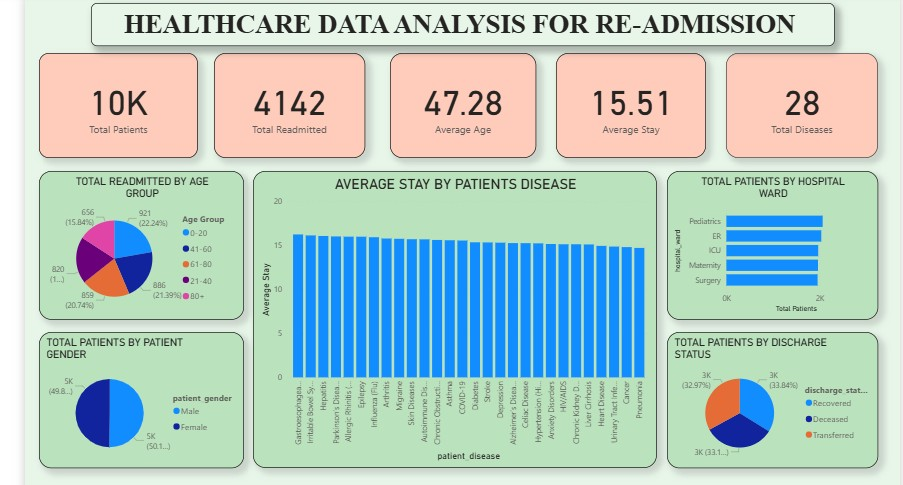

This screenshot's page, from the dashboard's own definition file:
{"tool":"powerbi","page":{"name":"Page 1","canvas":[1400,800],"ordinal":0},"visuals":[{"type":"card","fields":{"Values":["Healthcare Data Analysis for readmission csv.Total Patients"]},"box":[22.4,91.2,254.4,168],"z":0},{"type":"card","fields":{"Values":["Healthcare Data Analysis for readmission csv.Total Diseases"]},"box":[1121.6,91.2,243.2,168],"z":1000},{"type":"card","fields":{"Values":["Healthcare Data Analysis for readmission csv.Total Readmitted"]},"box":[302.4,91.2,241.6,168],"z":2000},{"type":"card","fields":{"Values":["Healthcare Data Analysis for readmission csv.Average Age"]},"box":[584,91.2,233.6,168],"z":3000},{"type":"card","fields":{"Values":["Healthcare Data Analysis for readmission csv.Average Stay"]},"box":[849.6,91.2,240,168],"z":4000},{"type":"pieChart","title":"TOTAL PATIENTS BY PATIENT GENDER","fields":{"Category":["Healthcare Data Analysis for readmission csv.patient_gender"],"Y":["Healthcare Data Analysis for readmission csv.Total Patients"]},"box":[22.4,537.6,328,217.6],"z":5000},{"type":"pieChart","title":"TOTAL READMITTED BY AGE GROUP","fields":{"Category":["Healthcare Data Analysis for readmission csv.Age Group"],"Y":["Healthcare Data Analysis for readmission csv.Total Readmitted"]},"box":[22.4,280,328,238.4],"z":6000},{"type":"pieChart","title":"TOTAL PATIENTS BY DISCHARGE STATUS","fields":{"Category":["Healthcare Data Analysis for readmission csv.discharge_status"],"Y":["Healthcare Data Analysis for readmission csv.Total Patients"]},"box":[1027.2,537.6,337.6,217.6],"z":7000},{"type":"clusteredBarChart","title":"TOTAL PATIENTS BY HOSPITAL WARD","fields":{"Category":["Healthcare Data Analysis for readmission csv.hospital_ward"],"Y":["Healthcare Data Analysis for readmission csv.Total Patients"]},"box":[1027.2,280,337.6,238.4],"z":8000},{"type":"clusteredColumnChart","title":"AVERAGE STAY BY PATIENTS DISEASE","fields":{"Y":["Healthcare Data Analysis for readmission csv.Average Stay"],"Category":["Healthcare Data Analysis for readmission csv.patient_disease"]},"box":[364.8,280,646.4,475.2],"z":9000},{"type":"textbox","box":[105.6,11.2,1190.4,68.8],"z":10000}]}

Visuals, with their boxes in screenshot pixels (x1, y1, x2, y2):
card - Healthcare Data Analysis for readmission csv.Total Patients: rect(40, 52, 197, 156)
card - Healthcare Data Analysis for readmission csv.Total Diseases: rect(720, 52, 871, 156)
card - Healthcare Data Analysis for readmission csv.Total Readmitted: rect(213, 52, 363, 156)
card - Healthcare Data Analysis for readmission csv.Average Age: rect(387, 52, 532, 156)
card - Healthcare Data Analysis for readmission csv.Average Stay: rect(552, 52, 700, 156)
"TOTAL PATIENTS BY PATIENT GENDER" pieChart: rect(40, 328, 243, 463)
"TOTAL READMITTED BY AGE GROUP" pieChart: rect(40, 169, 243, 316)
"TOTAL PATIENTS BY DISCHARGE STATUS" pieChart: rect(662, 328, 871, 463)
"TOTAL PATIENTS BY HOSPITAL WARD" clusteredBarChart: rect(662, 169, 871, 316)
"AVERAGE STAY BY PATIENTS DISEASE" clusteredColumnChart: rect(252, 169, 652, 463)
textbox: rect(91, 2, 828, 45)
